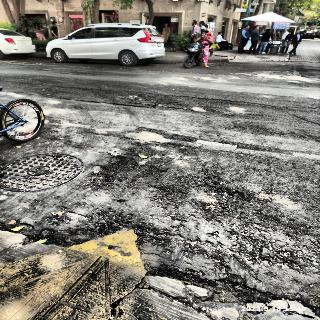alligator-crack: (142, 104, 163, 110)
crack: (163, 94, 289, 108), (35, 95, 140, 107), (294, 115, 320, 126)
pothole: (198, 276, 273, 306), (12, 221, 54, 245)
